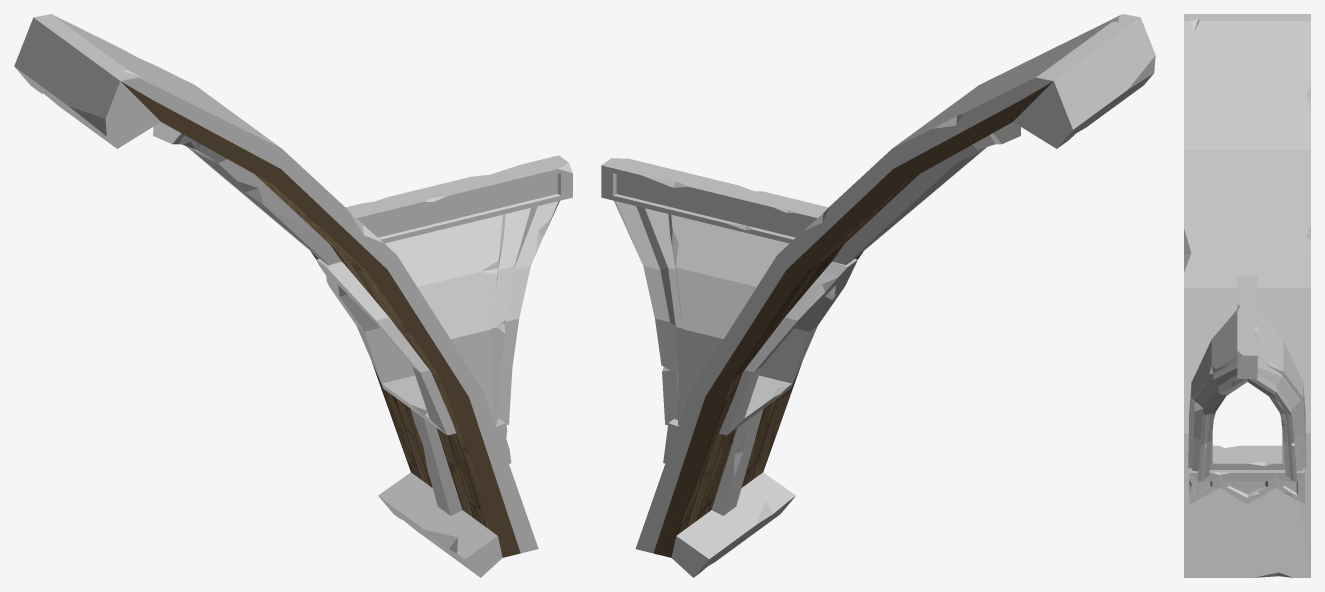
File: SM_Bld_Hall_Roof_Window_01.fbx
3 views of the same model, side by side, from view 1: azimuth 30°, elevation 25°; view 2: azimuth 150°, elevation 25°; view 3: azimuth 270°, elevation 25° (orthographic). The views are drawn at different scales.
Visible parts, largest first — view 1: SM_Bld_Hall_Roof_Window_01; view 2: SM_Bld_Hall_Roof_Window_01; view 3: SM_Bld_Hall_Roof_Window_01.
Part boxes in pixels (bbox=[...]): SM_Bld_Hall_Roof_Window_01: bbox=[14, 14, 572, 577]; SM_Bld_Hall_Roof_Window_01: bbox=[601, 14, 1155, 577]; SM_Bld_Hall_Roof_Window_01: bbox=[1184, 14, 1310, 577].
Bounding box in the file's own units: 843 × 927 × 250.
